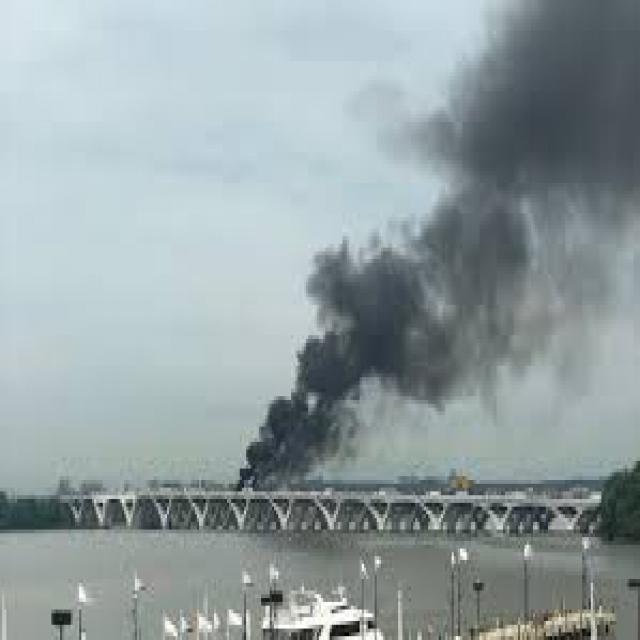Smoke: (240, 4, 636, 484)
